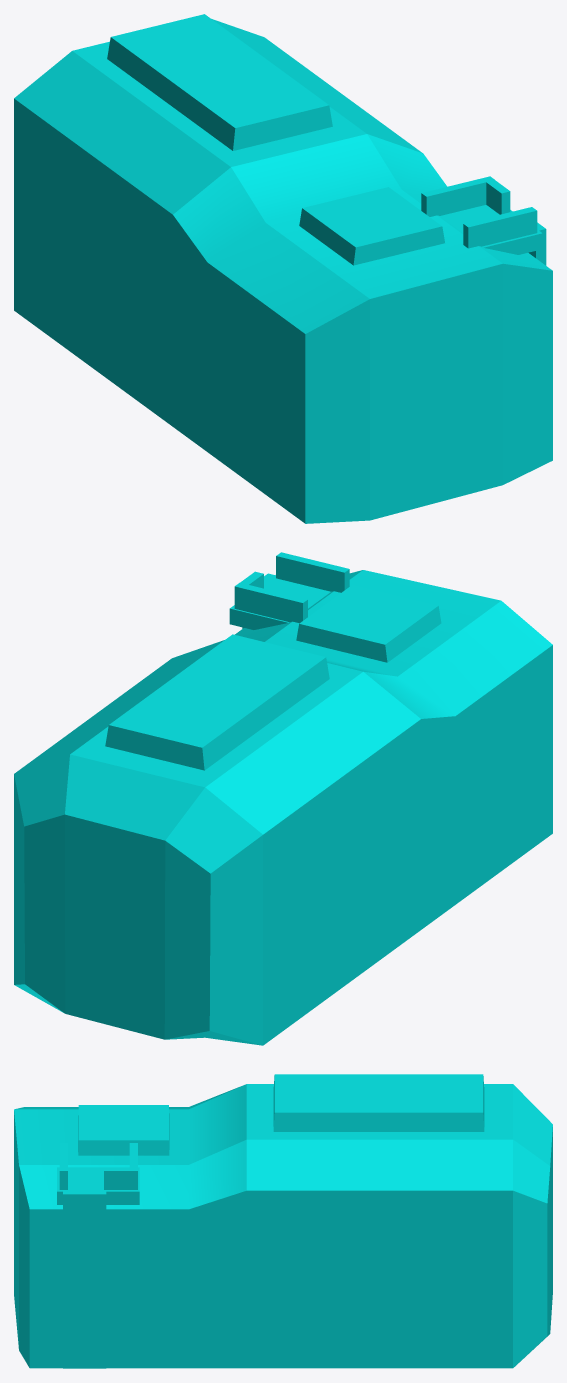
File: SM_Veh_Truck_01_Module_02_Collision.fbx
3 views of the same model, one above another, from view 1: azimuth 30°, elevation 25°; view 2: azimuth 150°, elevation 25°; view 3: azimuth 270°, elevation 25° (orthographic). The views are drawn at different scales.
Parts seen in each view (by area): view 1: SM_Veh_Truck_01_Module_02_Collision; view 2: SM_Veh_Truck_01_Module_02_Collision; view 3: SM_Veh_Truck_01_Module_02_Collision.
Boxes of the visible parts, x1,y1,x2,y2 form: SM_Veh_Truck_01_Module_02_Collision: (14, 14, 552, 523); SM_Veh_Truck_01_Module_02_Collision: (14, 552, 552, 1045); SM_Veh_Truck_01_Module_02_Collision: (14, 1074, 552, 1368).
Size of the model in its own units: 330 by 327 by 698.
